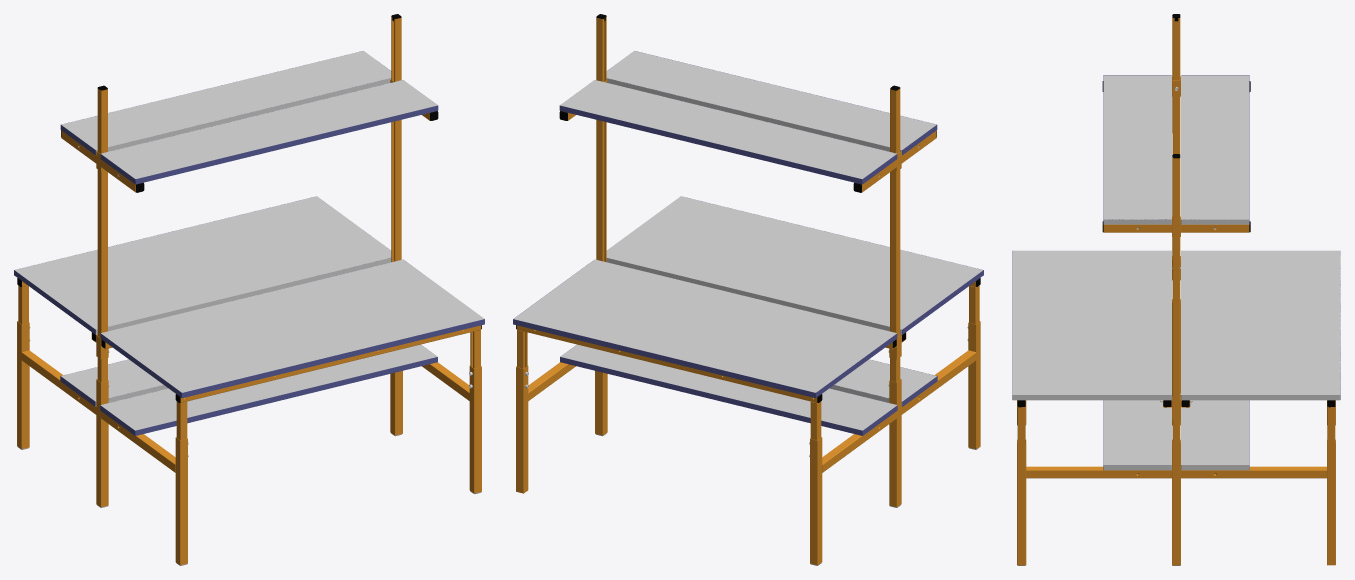
Rendered from table1.gltf.
3 views of the same model, side by side, from view 1: azimuth 30°, elevation 25°; view 2: azimuth 150°, elevation 25°; view 3: azimuth 270°, elevation 25° (orthographic). The views are drawn at different scales.
Visible parts, largest first — view 1: Object_133.001, Object_131.001, Object_137.001, Object_135.001, Object_261.001, Object_79.001, Object_265.001, Object_263.001, Object_81.001, Object_273.001, Object_269.001, Object_35.001 (+8 smaller); view 2: Object_131.001, Object_133.001, Object_135.001, Object_137.001, Object_263.001, Object_79.001, Object_267.001, Object_261.001, Object_81.001, Object_275.001, Object_271.001, Object_43.001 (+8 smaller); view 3: Object_131.001, Object_133.001, Object_135.001, Object_137.001, Object_261.001, Object_263.001, Object_81.001, Object_59.001, Object_63.001, Object_65.001, Object_61.001, Object_57.001 (+3 smaller).
Boxes of the visible parts, x1=… form: Object_133.001: x1=15, y1=196, x2=391, y2=334; Object_131.001: x1=101, y1=259, x2=484, y2=392; Object_137.001: x1=61, y1=51, x2=391, y2=154; Object_135.001: x1=101, y1=80, x2=437, y2=179; Object_261.001: x1=101, y1=344, x2=437, y2=430; Object_79.001: x1=97, y1=88, x2=107, y2=382; Object_265.001: x1=100, y1=265, x2=484, y2=398; Object_263.001: x1=61, y1=359, x2=168, y2=406; Object_81.001: x1=391, y1=17, x2=401, y2=261; Object_273.001: x1=100, y1=91, x2=438, y2=184; Object_269.001: x1=100, y1=357, x2=437, y2=435; Object_35.001: x1=175, y1=437, x2=187, y2=565; Object_131.001: x1=606, y1=196, x2=982, y2=334; Object_133.001: x1=513, y1=259, x2=896, y2=392; Object_135.001: x1=606, y1=51, x2=936, y2=154; Object_137.001: x1=560, y1=80, x2=896, y2=179; Object_263.001: x1=560, y1=344, x2=896, y2=430; Object_79.001: x1=890, y1=88, x2=900, y2=382; Object_267.001: x1=513, y1=264, x2=897, y2=398; Object_261.001: x1=829, y1=359, x2=936, y2=406; Object_81.001: x1=596, y1=16, x2=606, y2=261; Object_275.001: x1=559, y1=98, x2=897, y2=184; Object_271.001: x1=560, y1=357, x2=897, y2=435; Object_43.001: x1=810, y1=437, x2=822, y2=565; Object_131.001: x1=1012, y1=250, x2=1171, y2=400; Object_133.001: x1=1181, y1=250, x2=1340, y2=400; Object_135.001: x1=1103, y1=75, x2=1171, y2=224; Object_137.001: x1=1181, y1=75, x2=1249, y2=224; Object_261.001: x1=1103, y1=400, x2=1171, y2=470; Object_263.001: x1=1181, y1=400, x2=1249, y2=470; Object_81.001: x1=1172, y1=157, x2=1180, y2=443; Object_59.001: x1=1181, y1=466, x2=1326, y2=478; Object_63.001: x1=1026, y1=466, x2=1171, y2=478; Object_65.001: x1=1017, y1=439, x2=1026, y2=565; Object_61.001: x1=1172, y1=439, x2=1180, y2=565; Object_57.001: x1=1327, y1=439, x2=1335, y2=565.
Size of the model in its own units: 1.5 by 1.98 by 1.44.
